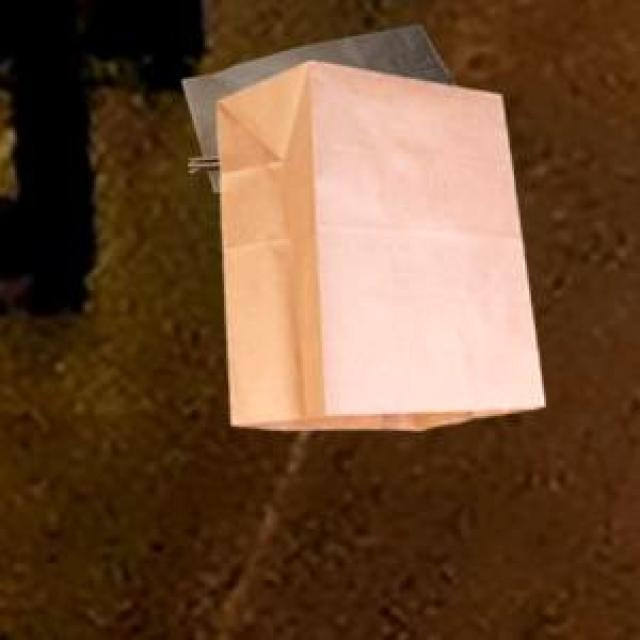Paper_Bag: (214, 59, 541, 428), (178, 22, 453, 191)
